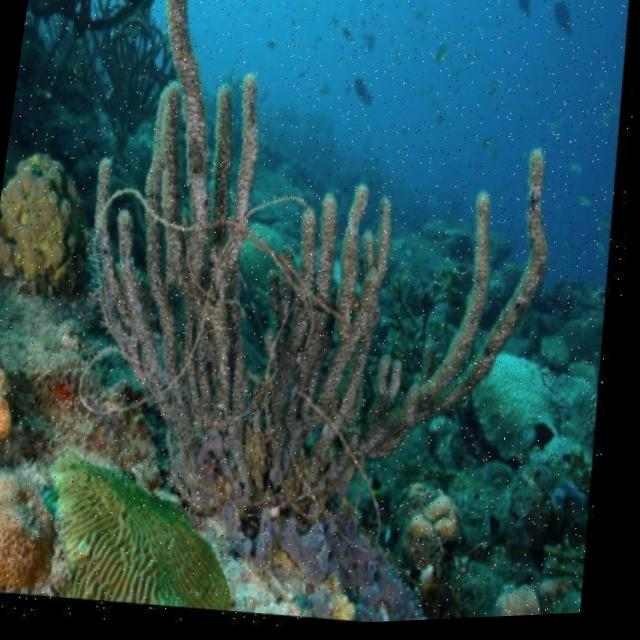Healthy Coral: (53, 39, 601, 560), (0, 457, 291, 629)
